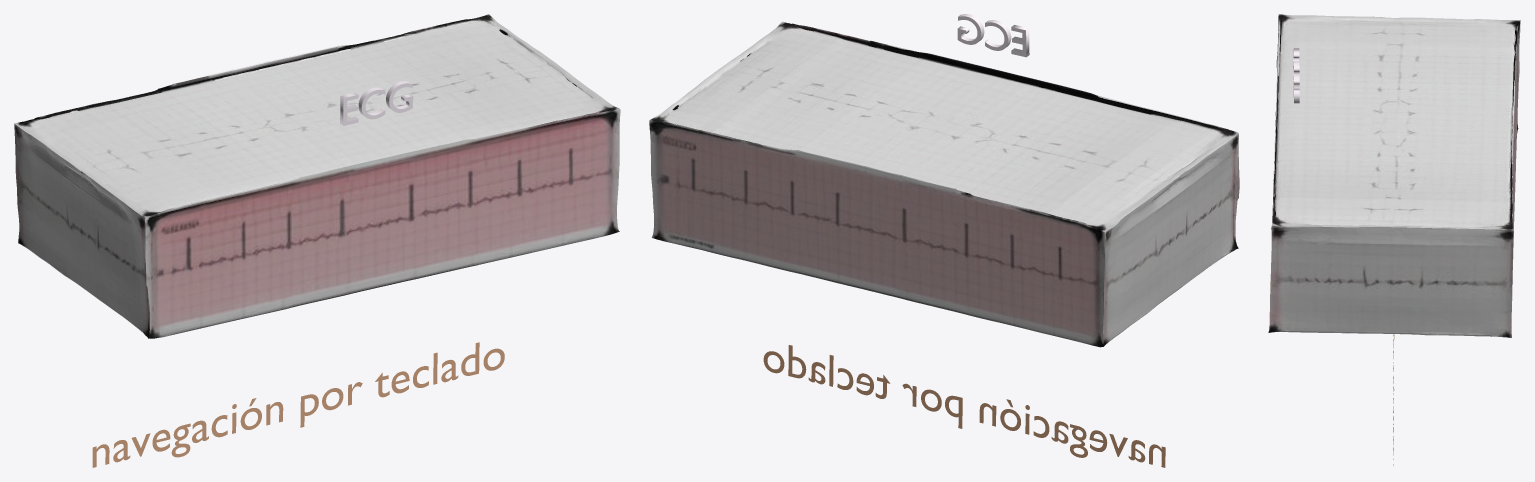
Rendered from Ekg.glb.
3 renders of one model, left to right at view 1: azimuth 30°, elevation 25°; view 2: azimuth 150°, elevation 25°; view 3: azimuth 270°, elevation 25°, orthographic. The views are drawn at different scales.
Parts seen in each view (by area): view 1: Ekg, Text, Texto.001; view 2: Ekg, Text, Texto.001; view 3: Ekg, Texto.001.
Boxes of the visible parts, left/top/right/bottom form: Ekg: left=14, top=14, right=620, bottom=338; Text: left=92, top=342, right=504, bottom=467; Texto.001: left=340, top=81, right=413, bottom=125; Ekg: left=649, top=21, right=1239, bottom=347; Text: left=763, top=345, right=1165, bottom=467; Texto.001: left=957, top=14, right=1029, bottom=57; Ekg: left=1268, top=14, right=1520, bottom=337; Texto.001: left=1293, top=48, right=1299, bottom=103.
Bounding box in the file's own units: 1.01 × 0.7561 × 0.5129.
3 materials, 1 textured.
